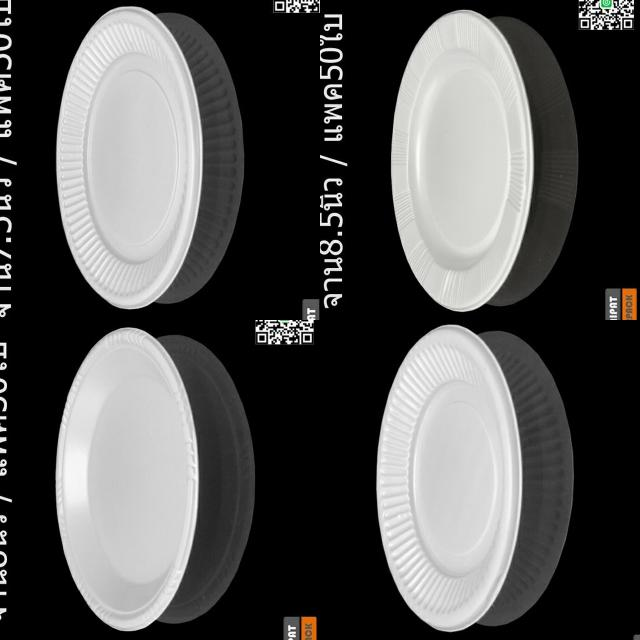Single-Use-Plastic: (56, 8, 204, 309), (378, 325, 521, 631), (56, 328, 199, 630), (391, 11, 534, 311)
